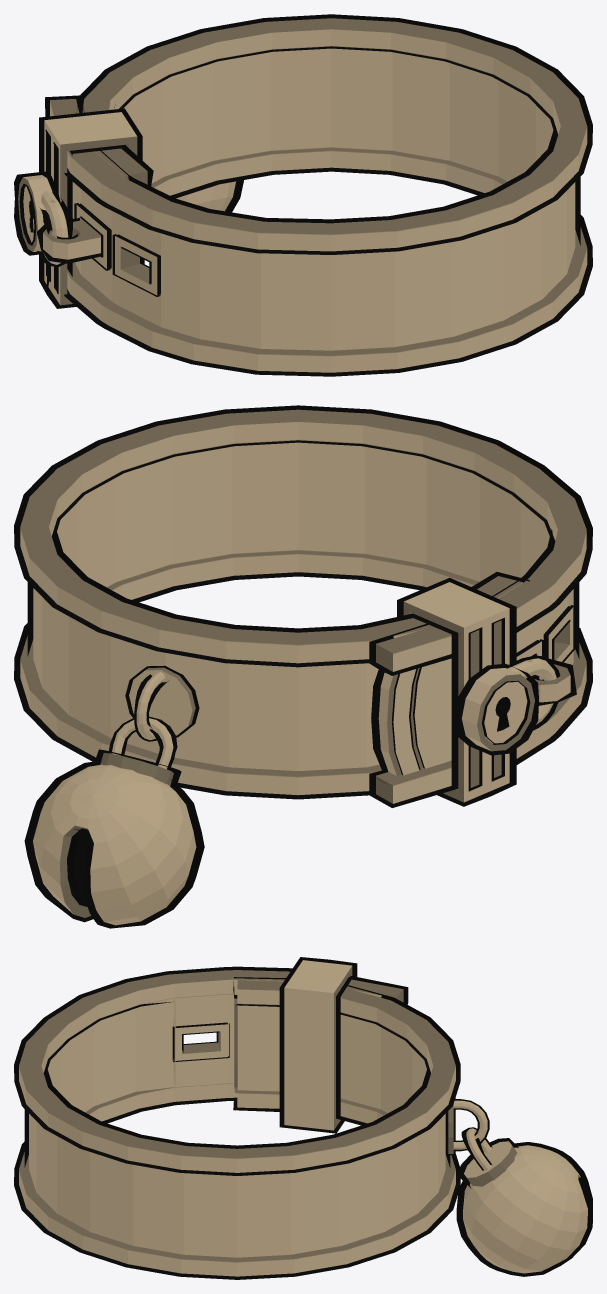
File: collar_for_yste.glb
The picture shows the model from 3 angles, top to bottom: view 1: azimuth 30°, elevation 25°; view 2: azimuth 150°, elevation 25°; view 3: azimuth 270°, elevation 25°; orthographic projection. The views are drawn at different scales.
Visible parts, largest first — view 1: Cylinder; view 2: Cylinder; view 3: Cylinder.
Boxes of the visible parts, x1,y1,x2,y2 form: Cylinder: (14,14,592,376); Cylinder: (14,405,592,928); Cylinder: (14,957,592,1279).
Bounding box in the file's own units: 0.587 × 0.2804 × 0.6948.
Materials: 2 (1 with a texture image).
